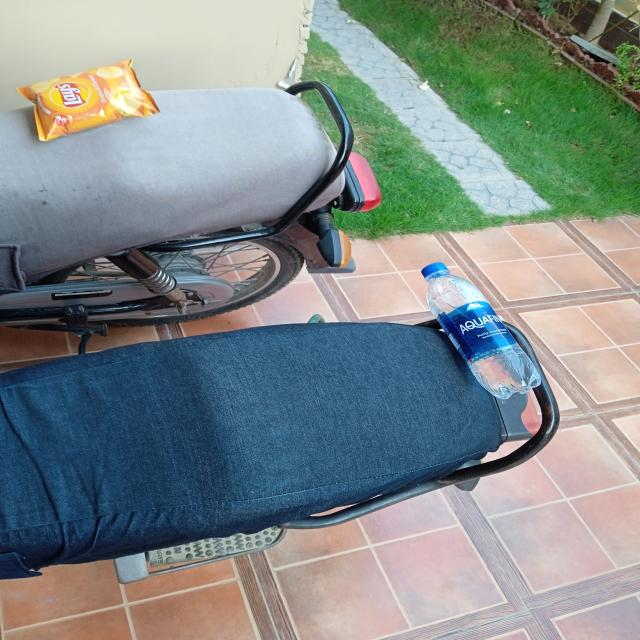Plastic: (415, 262, 541, 396)
